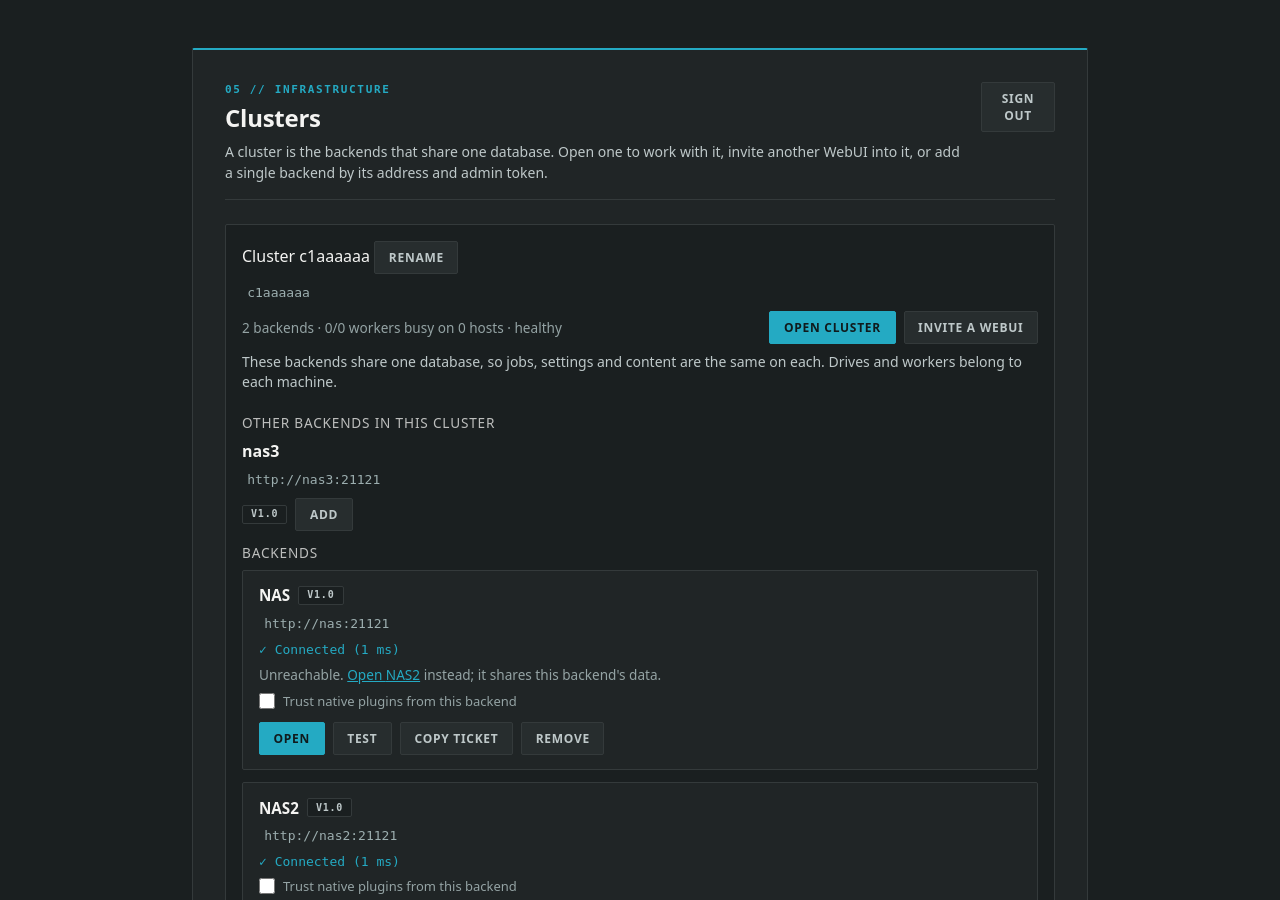
Scenario: Backends page clusters › groups members, points at a reachable one and prefills other backends in the cluster
Expected: the text "NAS2" is shown, [259,798,299,818]
# API servers this WebUI is not connected to (from the overview) can be added.
Click the button "Add": {"x": 324, "y": 514} [295,498,353,531]
(page scrolled)
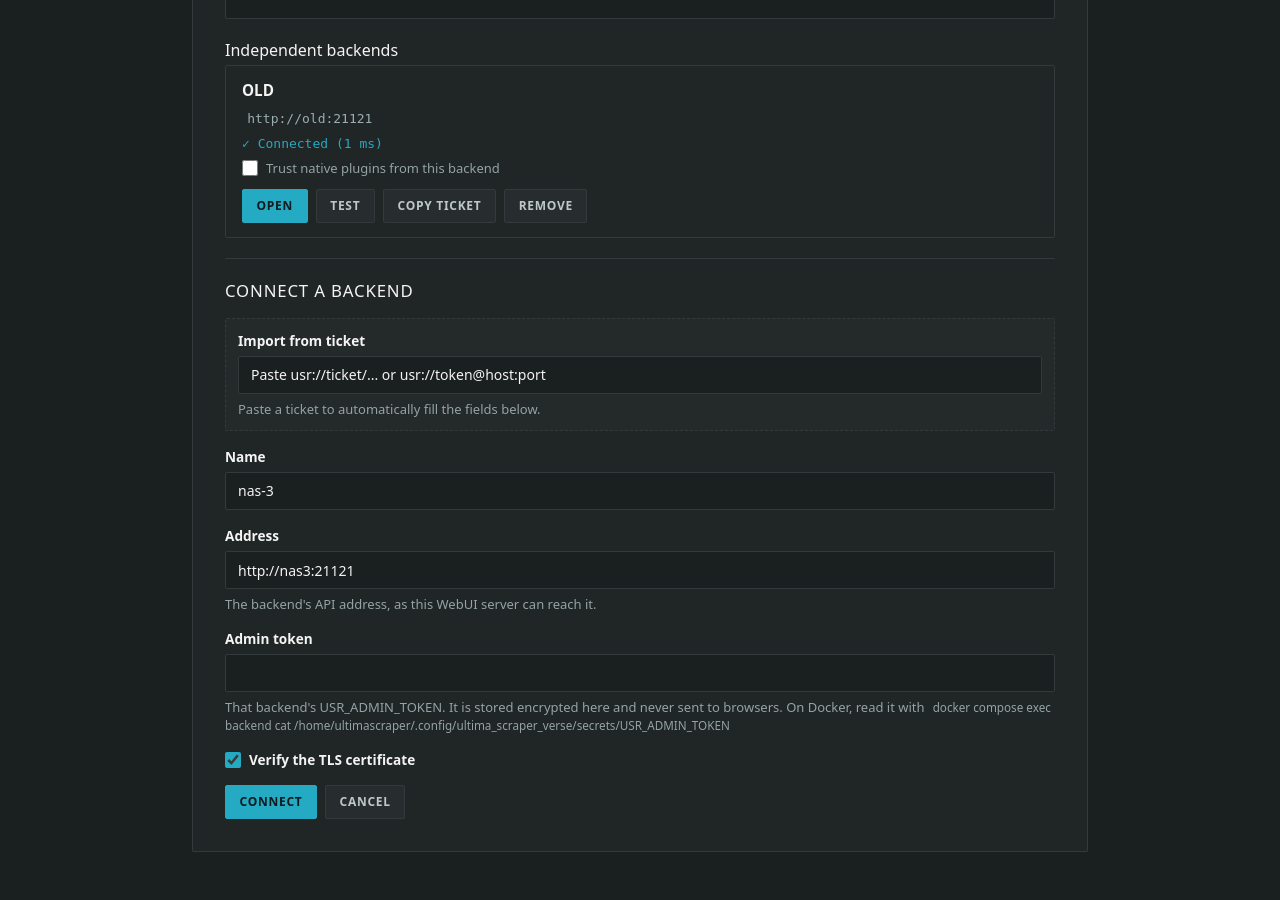
Now the field labelled "Name" holds "nas-3", box [225,472,1055,510]
Now the field labelled "Address" holds "http://nas3:21121", box [225,551,1055,589]
